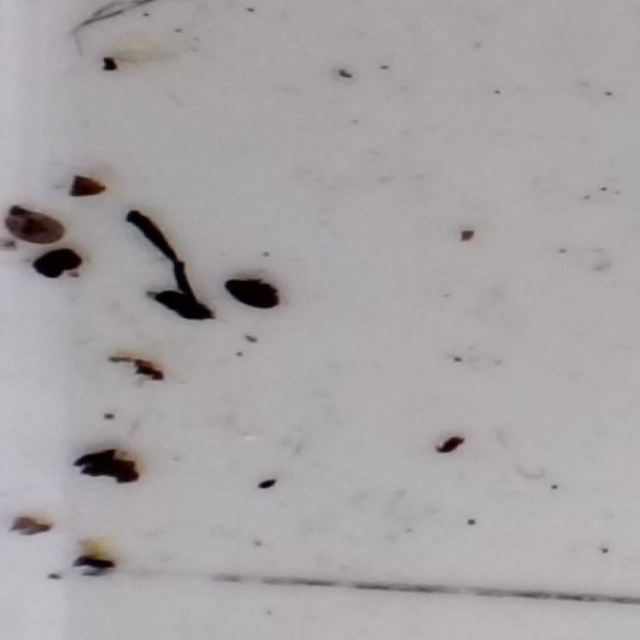varroa: (219, 275, 289, 313), (31, 245, 89, 283), (157, 289, 216, 323)
